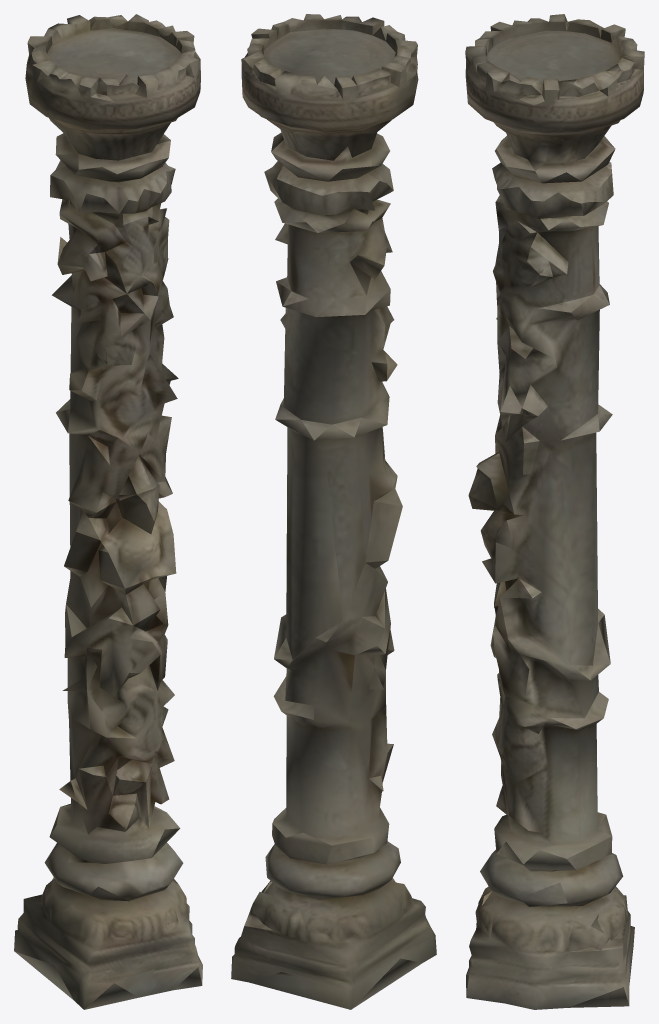
File: pillar7.glb
The picture shows the model from 3 angles, left to right: view 1: azimuth 30°, elevation 25°; view 2: azimuth 150°, elevation 25°; view 3: azimuth 270°, elevation 25°; orthographic projection.
Parts seen in each view (by area): view 1: pillar7; view 2: pillar7; view 3: pillar7.
Boxes of the visible parts, x1,y1,x2,y2 form: pillar7: [14, 14, 202, 1009]; pillar7: [231, 14, 436, 1009]; pillar7: [465, 14, 644, 1009].
Bounding box in the file's own units: 0.1327 × 0.7596 × 0.1332.
Materials: 1 (1 with a texture image).
